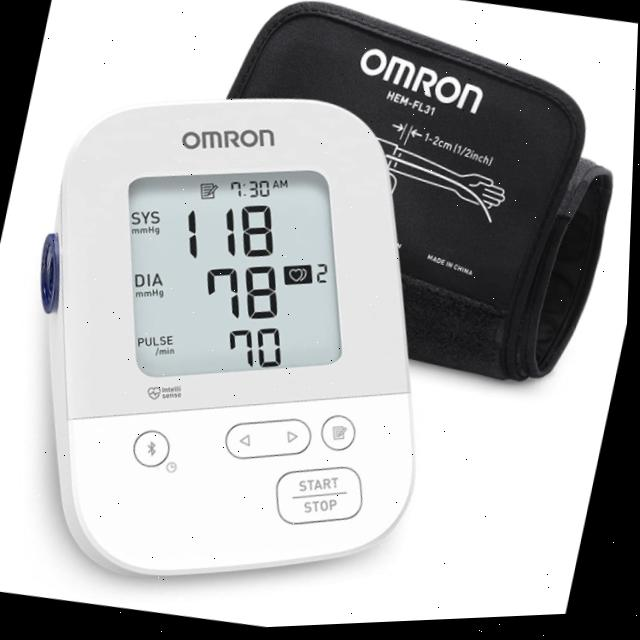dia: (200, 260, 294, 329)
pul: (222, 319, 304, 381)
ssd: (124, 162, 342, 380)
sys: (179, 199, 293, 264)
